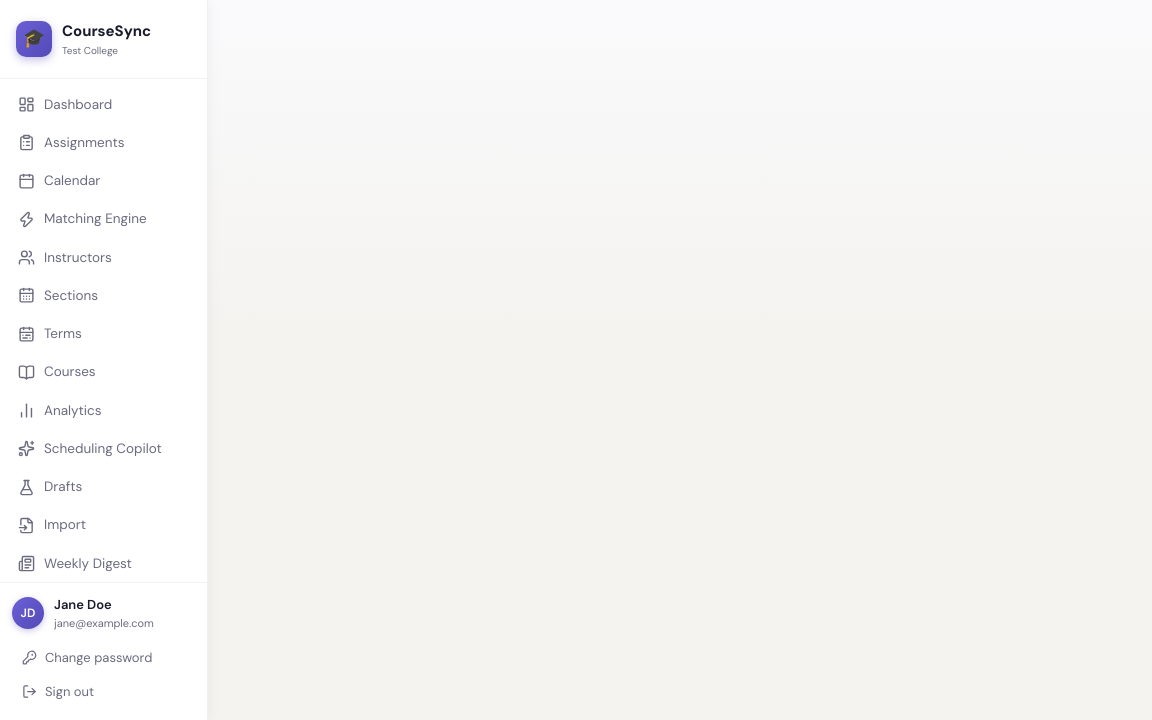
Scenario: modal dialogs are real dialogs › sign-out confirmation › is a named dialog, starts on Cancel, and Escape cancels
Click the button "Sign out".
click(104, 691)  # box [12,674,195,708]
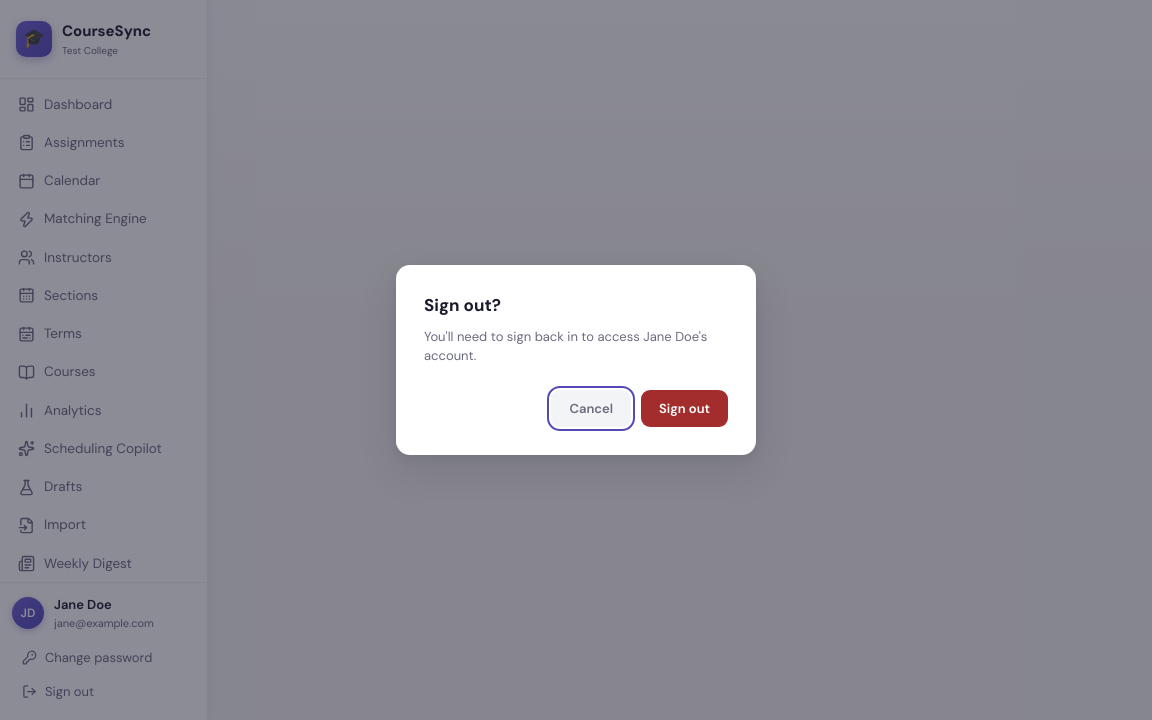
Press Escape
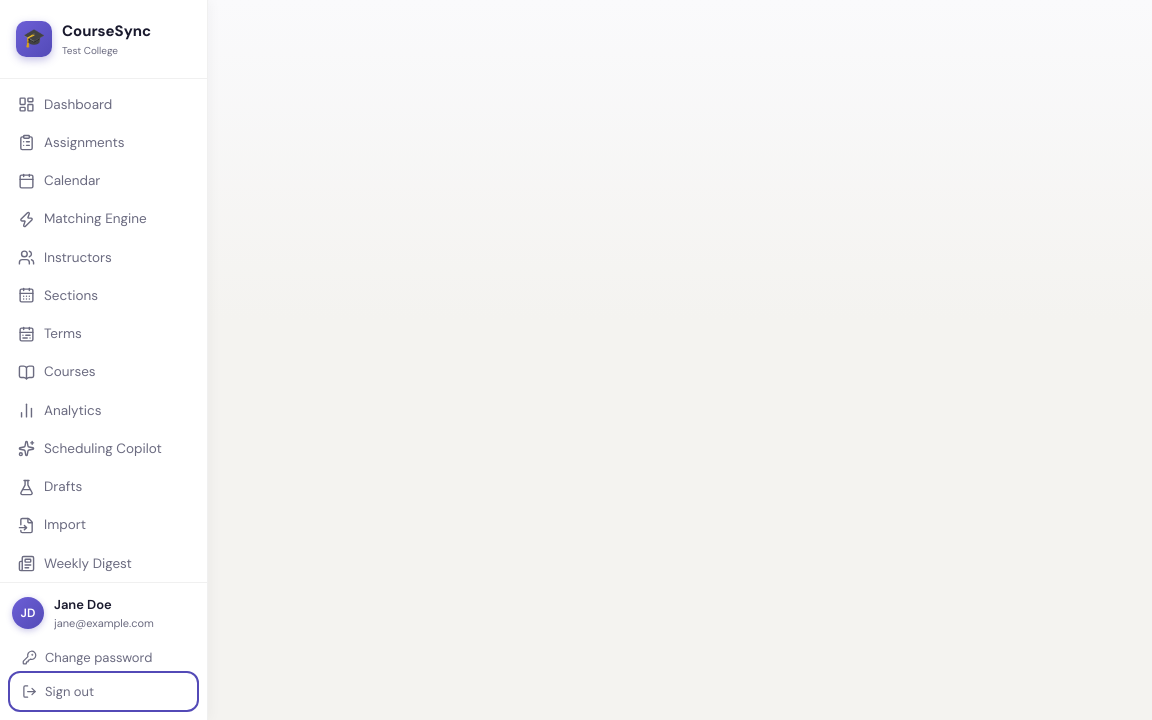
Now the dialog is gone
